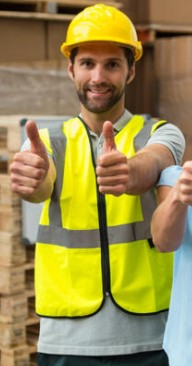worker: (33, 4, 172, 315)
